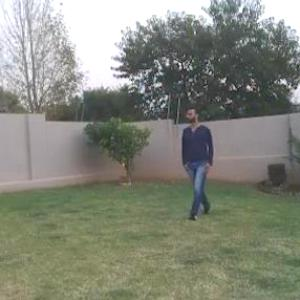follow: (174, 100, 219, 230)
